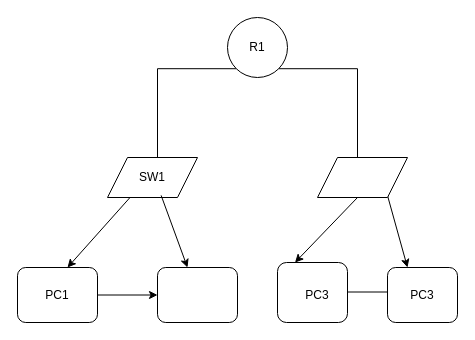
Image size: 475x340. Some labels were removed from this diagram. The shapes that lost their labels are listed below. From the top down, each one's centre as x and y in pixels, then its label:
At (362,177): "SW2".
At (197,294): "PC2".
